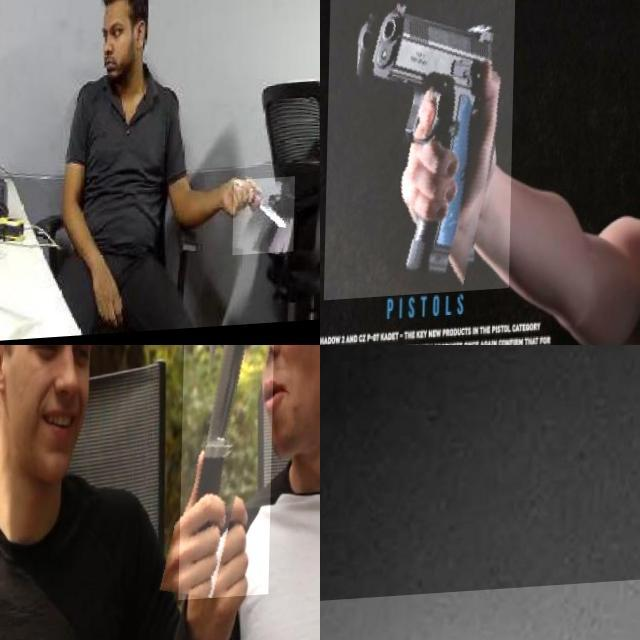-: (180, 345, 276, 603), (320, 577, 640, 640), (235, 182, 298, 260)
gun-knife-thesis - v11 Yolov5 augmented: (325, 0, 516, 301)
